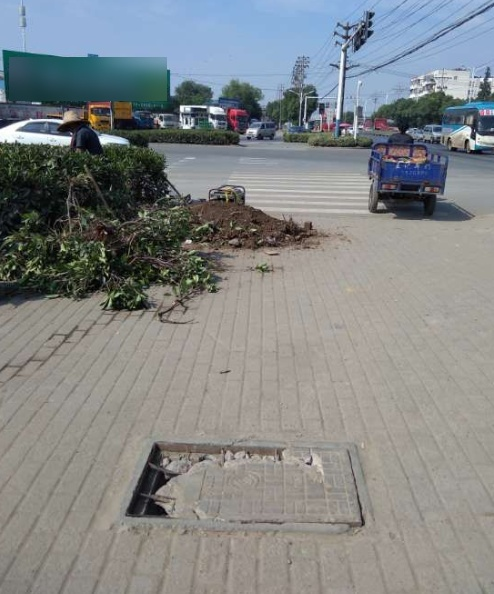broke: (115, 436, 377, 536)
